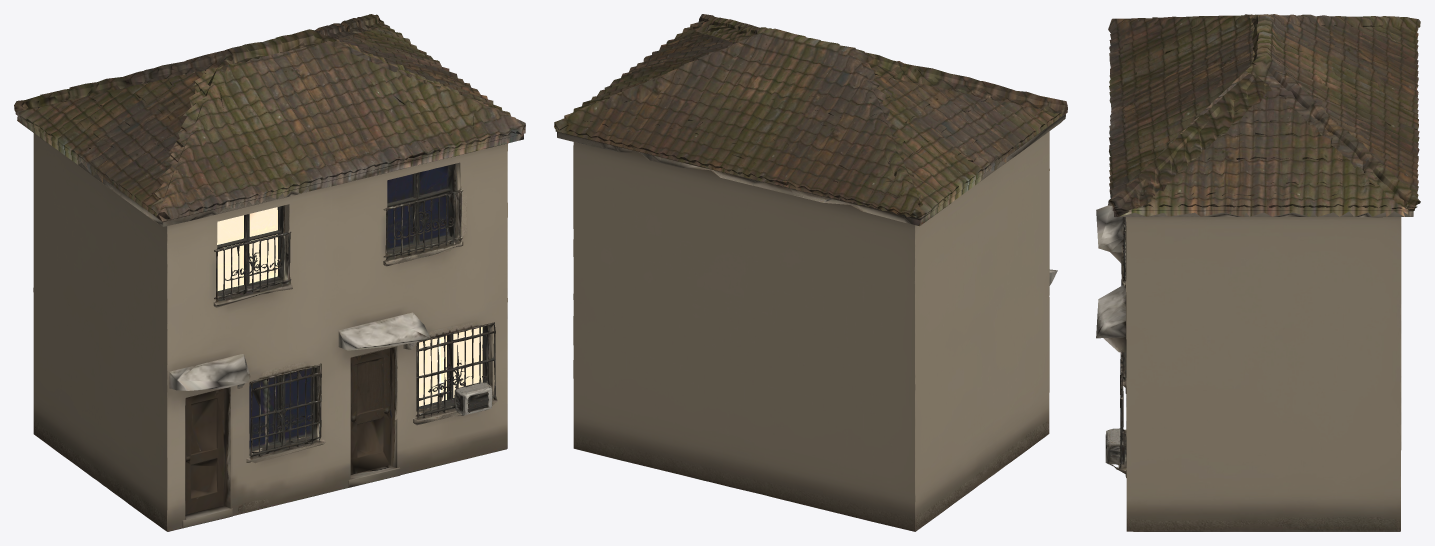
The model's file is house-stucco-duplex-2story.glb.
3 renders of one model, left to right at view 1: azimuth 30°, elevation 25°; view 2: azimuth 150°, elevation 25°; view 3: azimuth 270°, elevation 25°, orthographic. The views are drawn at different scales.
Size of the model in its own units: 6.23 by 6.5 by 4.64.
Materials: 5 (5 with a texture image).
